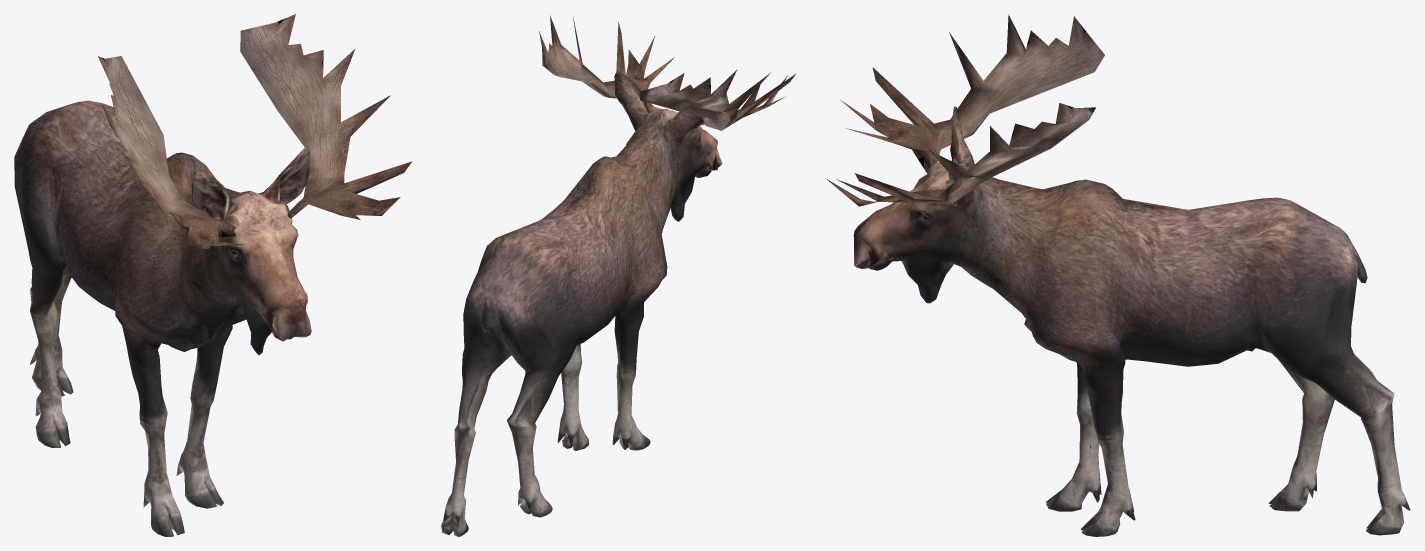
File: moose.glb
3 renders of one model, left to right at view 1: azimuth 30°, elevation 25°; view 2: azimuth 150°, elevation 25°; view 3: azimuth 270°, elevation 25°, orthographic. The views are drawn at different scales.
Parts seen in each view (by area): view 1: Moose001_applied_clean_M_Moose_0_M_Moose_0, Moose001_applied_clean_M_Moose_Antler_0_M_Moose_Antler_0; view 2: Moose001_applied_clean_M_Moose_0_M_Moose_0, Moose001_applied_clean_M_Moose_Antler_0_M_Moose_Antler_0; view 3: Moose001_applied_clean_M_Moose_0_M_Moose_0, Moose001_applied_clean_M_Moose_Antler_0_M_Moose_Antler_0.
Part boxes in pixels (x1,y1,x2,y2): Moose001_applied_clean_M_Moose_0_M_Moose_0: (14,100,311,536); Moose001_applied_clean_M_Moose_Antler_0_M_Moose_Antler_0: (98,14,412,249); Moose001_applied_clean_M_Moose_0_M_Moose_0: (441,71,722,536); Moose001_applied_clean_M_Moose_Antler_0_M_Moose_Antler_0: (539,15,796,130); Moose001_applied_clean_M_Moose_0_M_Moose_0: (853,106,1410,536); Moose001_applied_clean_M_Moose_Antler_0_M_Moose_Antler_0: (826,14,1104,206).
Size of the model in its own units: 1.52 by 2.72 by 3.13.
Materials: 2 (2 with a texture image).
